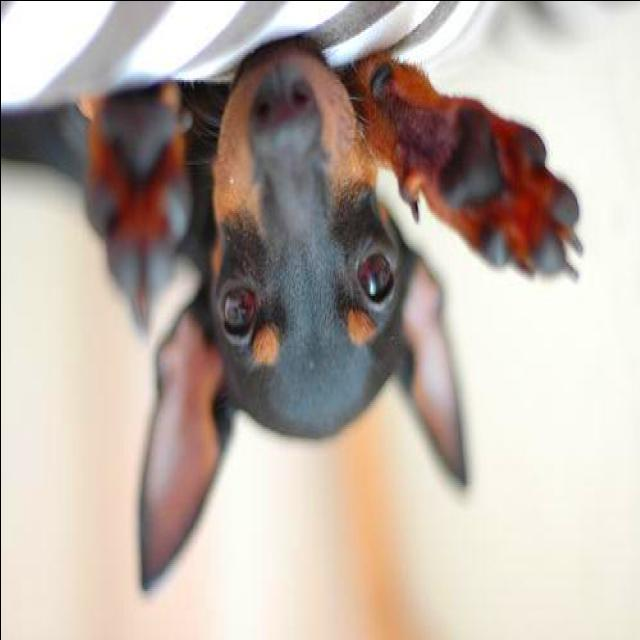toy_terrier: (52, 42, 582, 600)
